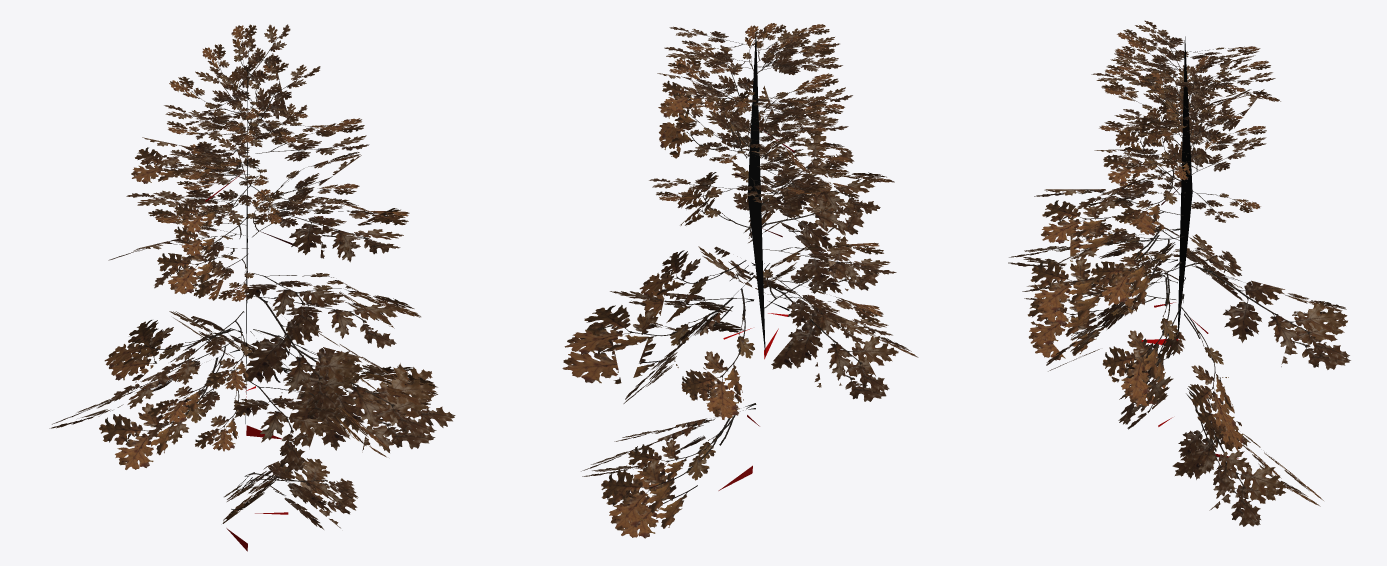
The model's file is spruce4 lod4.FBX.
3 views of the same model, side by side, from view 1: azimuth 30°, elevation 25°; view 2: azimuth 150°, elevation 25°; view 3: azimuth 270°, elevation 25° (orthographic). The views are drawn at different scales.
Parts seen in each view (by area): view 1: spruce4_LOD4; view 2: spruce4_LOD4; view 3: spruce4_LOD4.
Part boxes in pixels (x1=…): spruce4_LOD4: x1=49, y1=24, x2=455, y2=551; spruce4_LOD4: x1=562, y1=23, x2=918, y2=538; spruce4_LOD4: x1=1008, y1=20, x2=1350, y2=526.
Bounding box in the file's own units: 72973 × 87151 × 67719.
